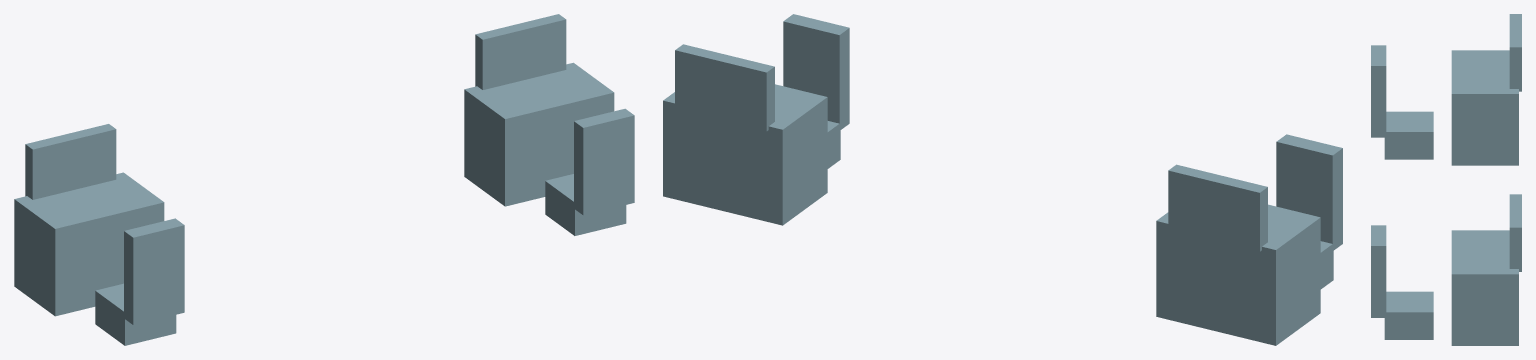
File: SM_Int_Corvette_Bridge_Stations.fbx
3 renders of one model, left to right at view 1: azimuth 30°, elevation 25°; view 2: azimuth 150°, elevation 25°; view 3: azimuth 270°, elevation 25°, orthographic. The views are drawn at different scales.
Visible parts, largest first — view 1: SM_Int_Corvette_Bridge_Stations; view 2: SM_Int_Corvette_Bridge_Stations; view 3: SM_Int_Corvette_Bridge_Stations.
Boxes of the visible parts, bbox=[...] form: SM_Int_Corvette_Bridge_Stations: bbox=[14, 14, 634, 345]; SM_Int_Corvette_Bridge_Stations: bbox=[663, 14, 1342, 345]; SM_Int_Corvette_Bridge_Stations: bbox=[1371, 14, 1521, 345].
Size of the model in its own units: 174 by 49.5 by 43.
